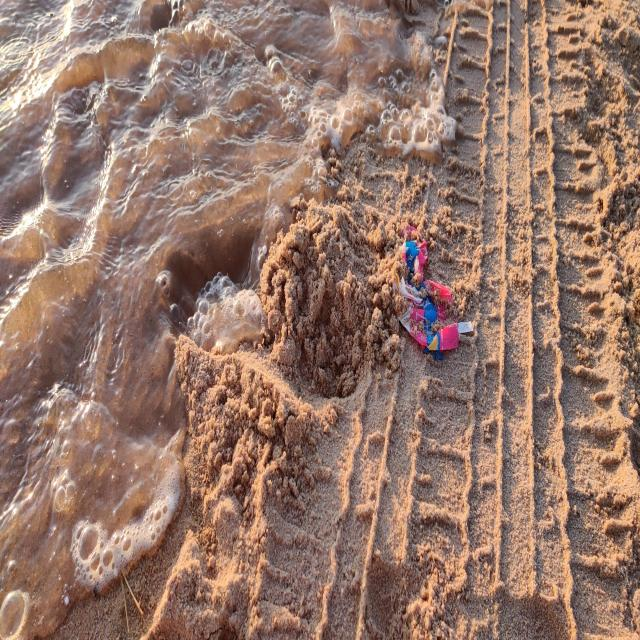litter: (392, 222, 459, 360)
